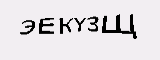Н: (105, 21, 122, 39)
О: (66, 24, 81, 49)
Ф: (44, 27, 69, 54)
Ч: (83, 22, 94, 41)
Я: (93, 22, 105, 41)
